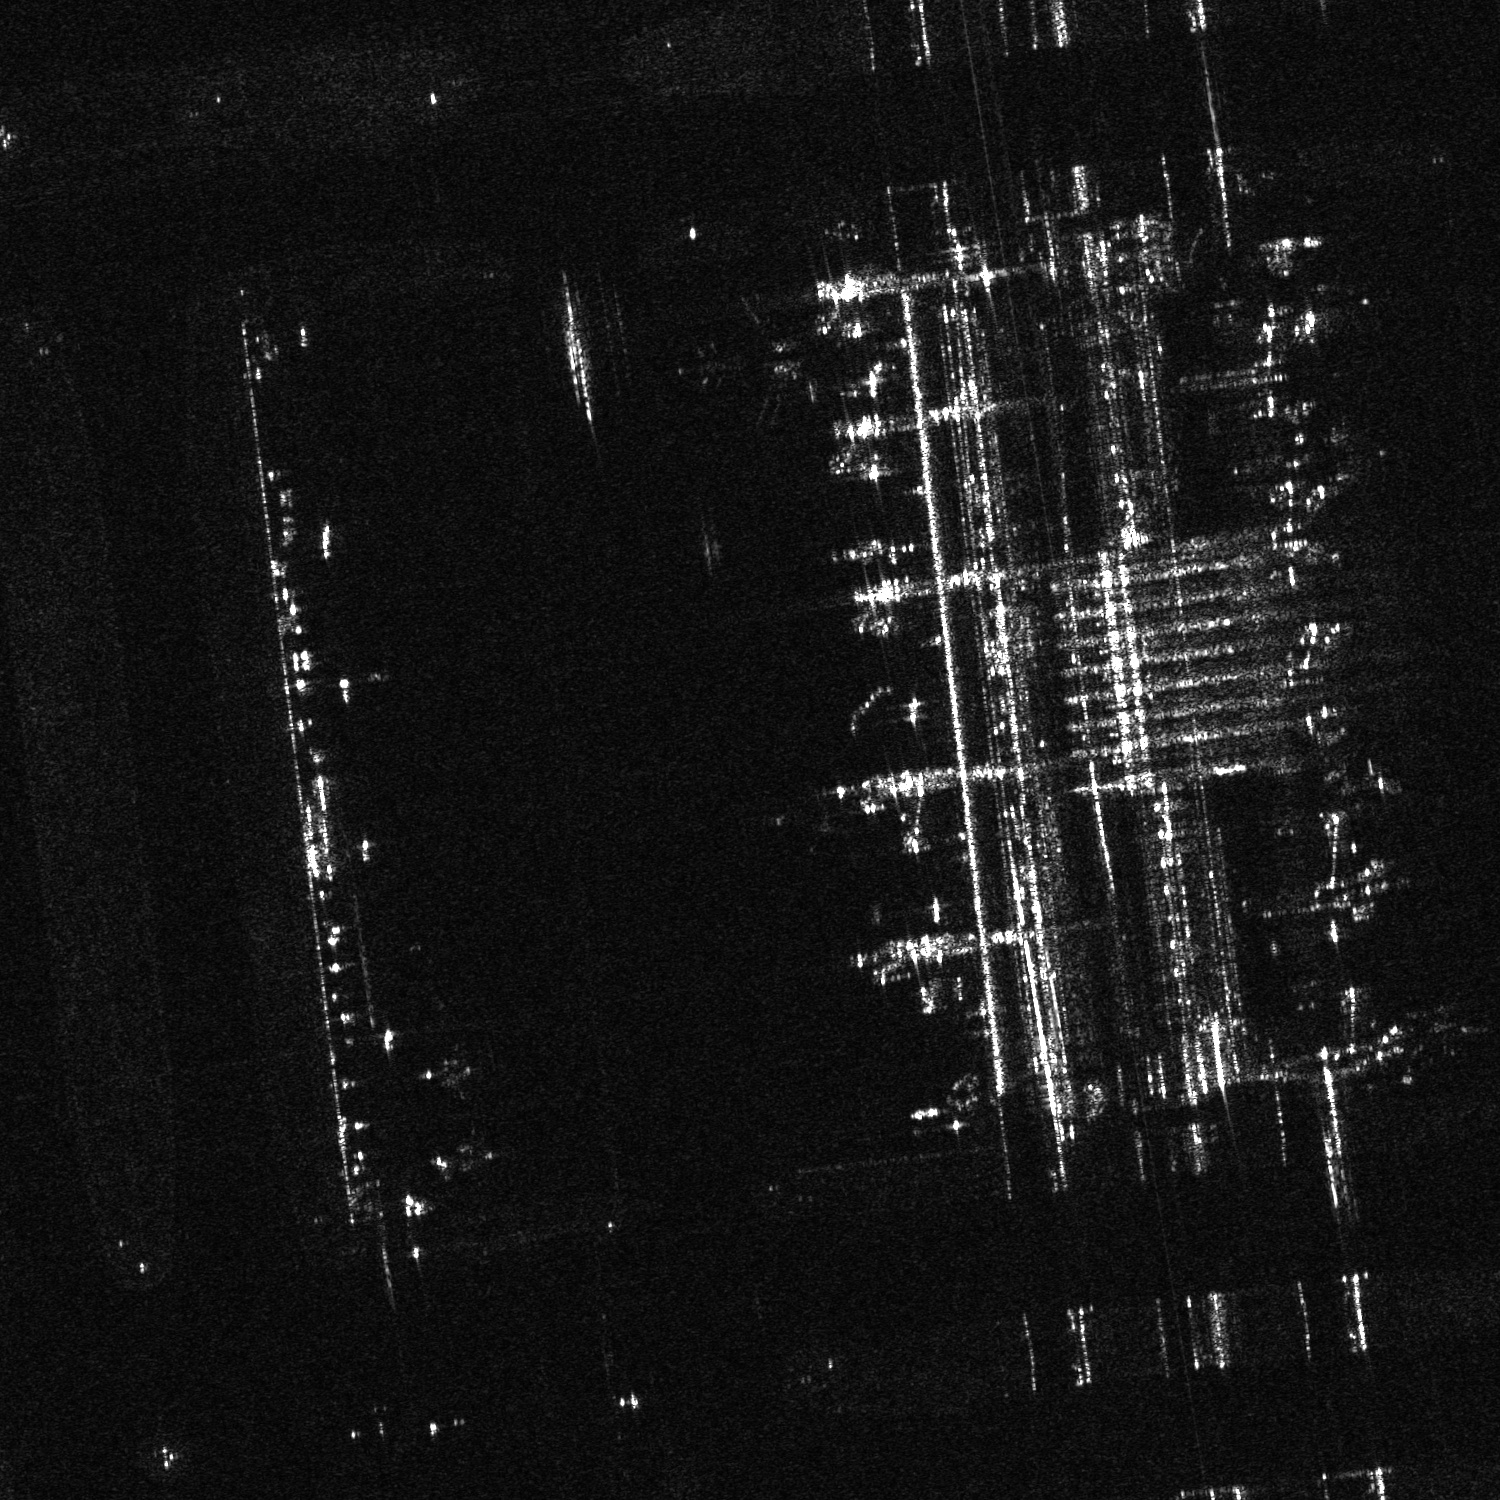Boeing737: (1402, 1000, 1467, 1058)
other: (674, 293, 817, 441)
